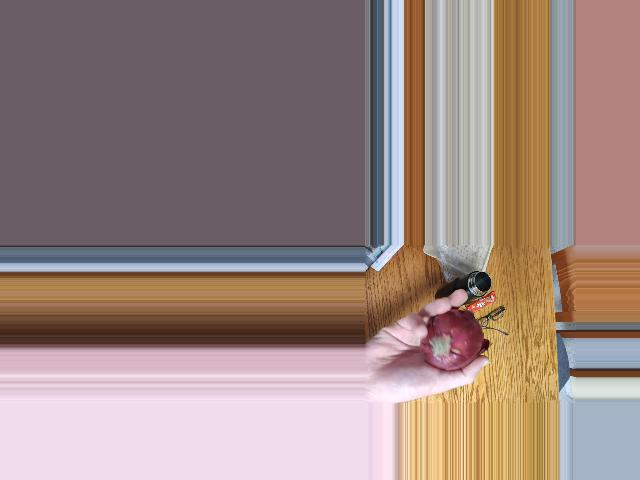onion: (413, 319, 480, 371)
